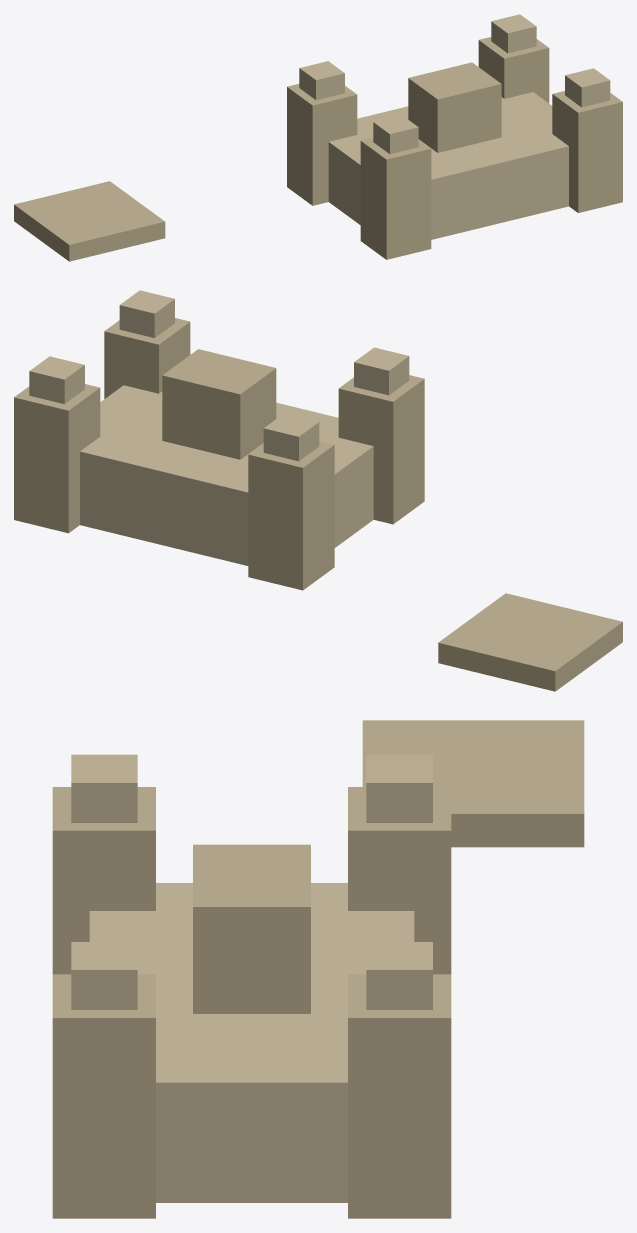
Rendered from castelo_de_areia.glb.
3 renders of one model, top to bottom at view 1: azimuth 30°, elevation 25°; view 2: azimuth 150°, elevation 25°; view 3: azimuth 270°, elevation 25°, orthographic. The views are drawn at different scales.
Parts seen in each view (by area): view 1: Malha_0; view 2: Malha_0; view 3: Malha_0.
Boxes of the visible parts, x1,y1,x2,y2 form: Malha_0: [14, 14, 622, 261]; Malha_0: [14, 290, 622, 691]; Malha_0: [52, 720, 584, 1218].
Bounding box in the file's own units: 1.49 × 0.36 × 0.72.
